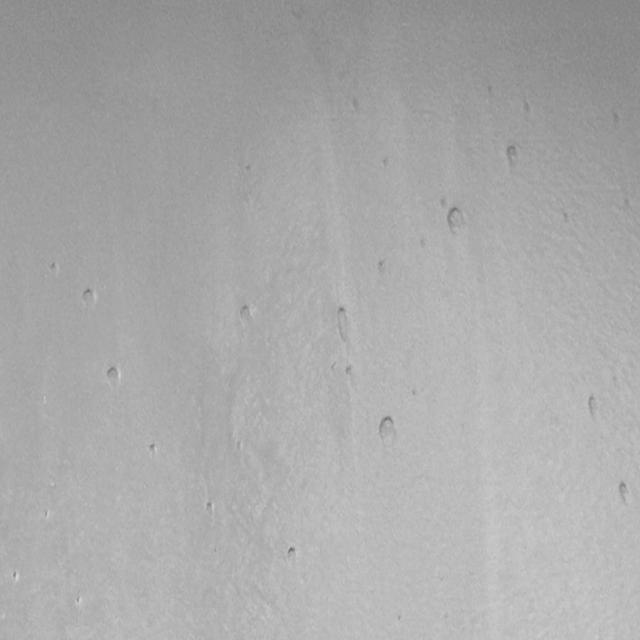pin holes: (329, 305, 356, 344), (375, 415, 400, 448), (444, 206, 470, 237), (584, 392, 605, 422), (616, 480, 636, 510), (236, 300, 259, 326), (502, 144, 523, 172), (103, 364, 125, 390), (78, 286, 98, 312), (282, 543, 301, 568), (610, 110, 628, 134), (417, 234, 432, 254), (203, 499, 217, 518), (41, 506, 55, 525), (376, 258, 389, 278), (48, 260, 62, 278), (148, 441, 162, 458), (437, 193, 451, 210), (344, 362, 357, 380), (10, 569, 22, 586), (379, 156, 392, 170), (242, 161, 255, 175), (524, 100, 531, 125), (72, 594, 84, 608), (352, 97, 359, 111), (487, 81, 493, 97), (563, 212, 569, 224), (397, 614, 403, 624), (411, 387, 416, 398)
